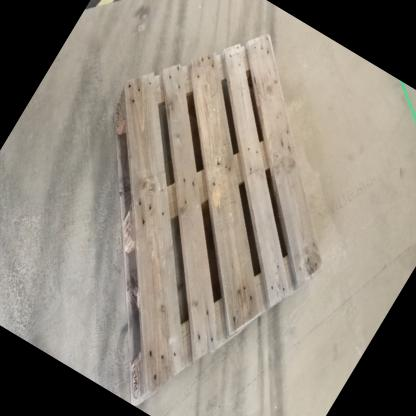BoxFace: (104, 28, 330, 411)
